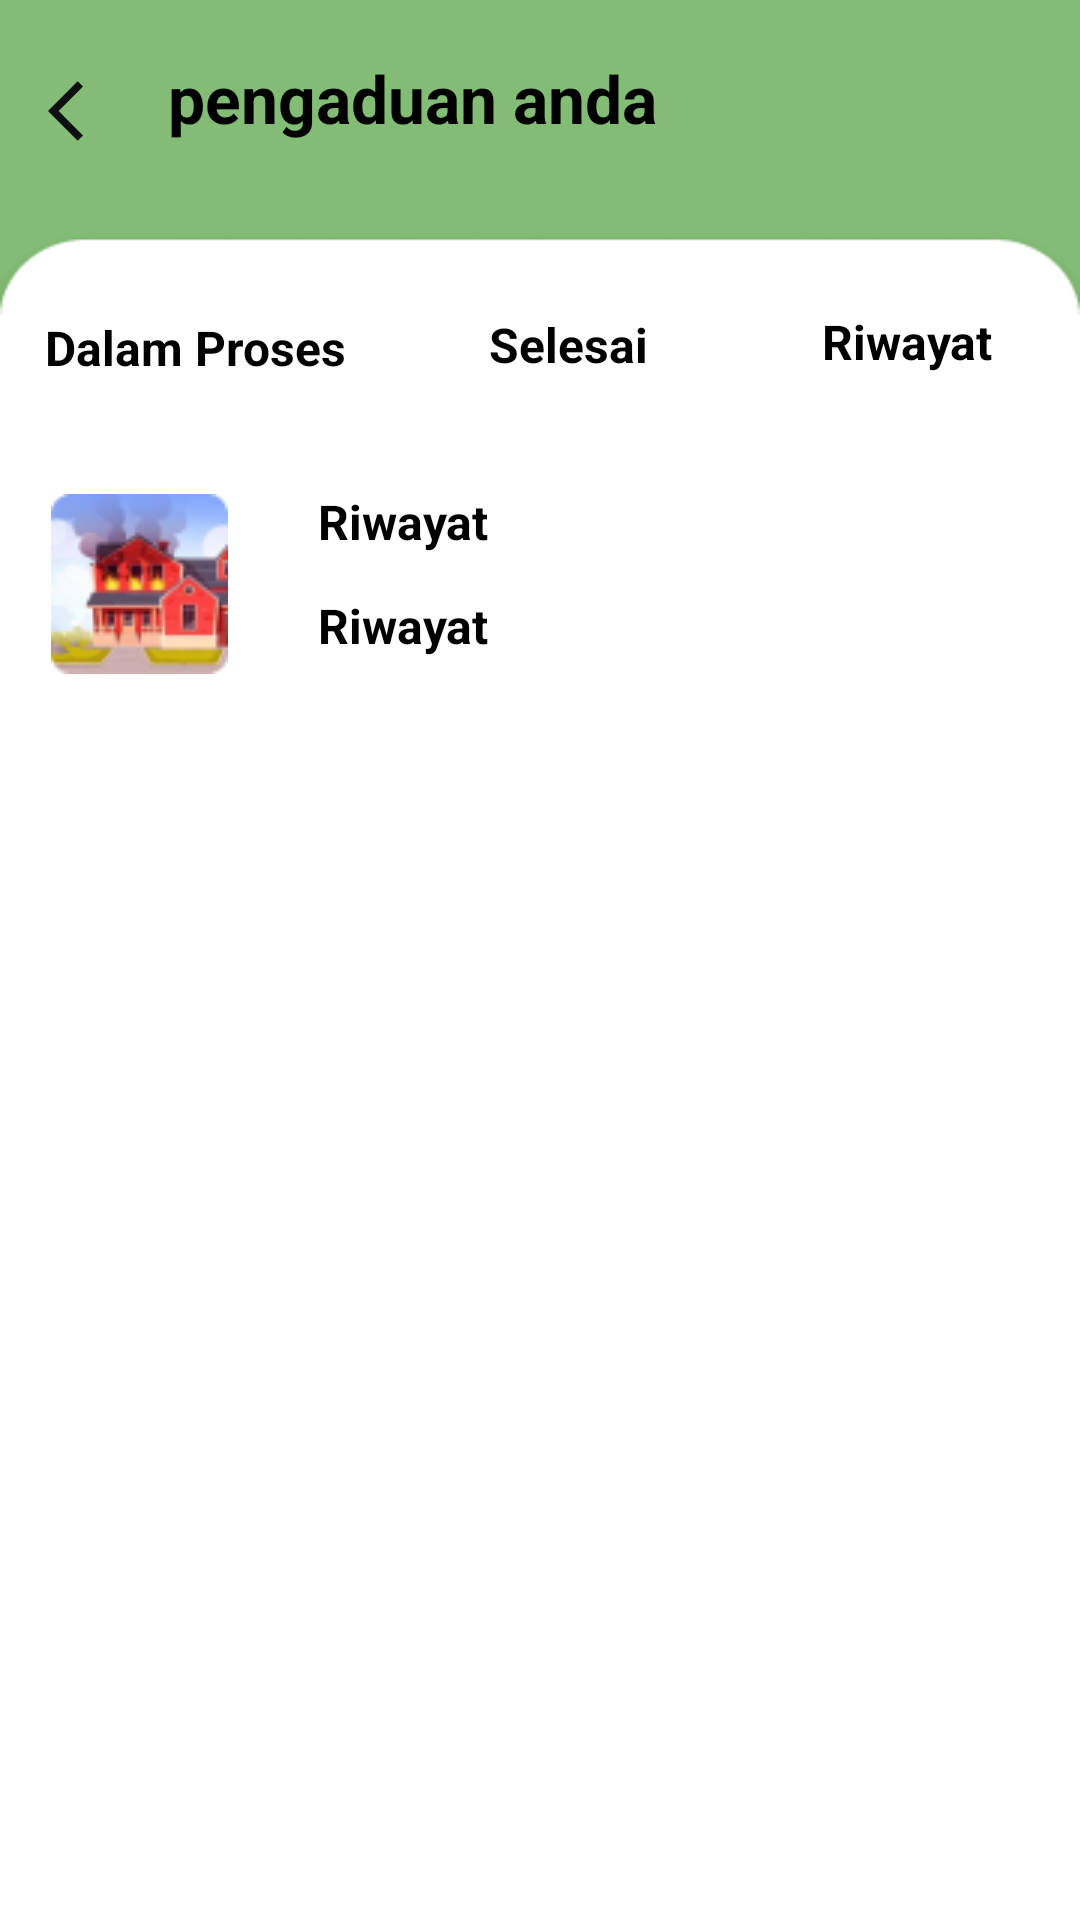

Icon click points for this 1080w x 1920h phone screenshot, format [x,y]:
back: [65,111]
foto: [139,584]
